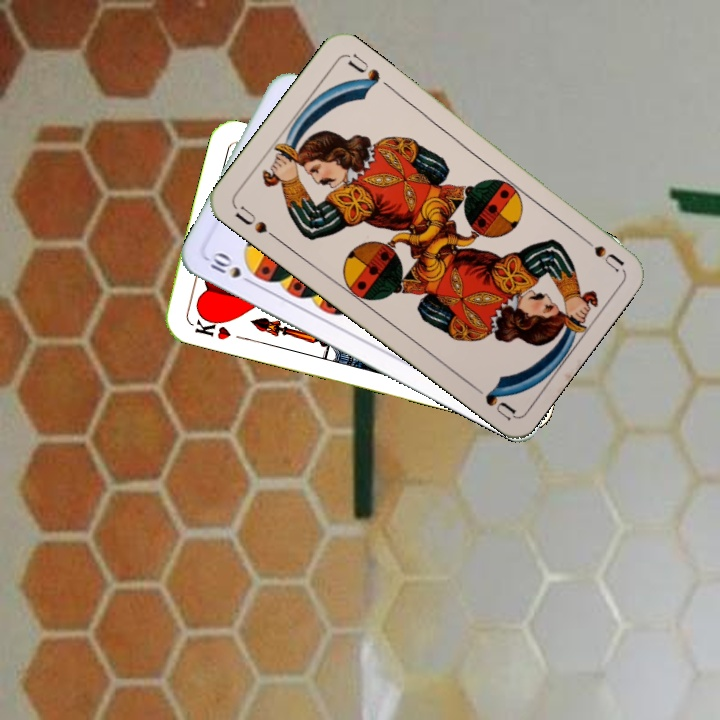HK: (190, 310, 233, 343)
S10: (206, 248, 258, 288)
SU: (573, 229, 626, 275), (230, 201, 281, 243)
